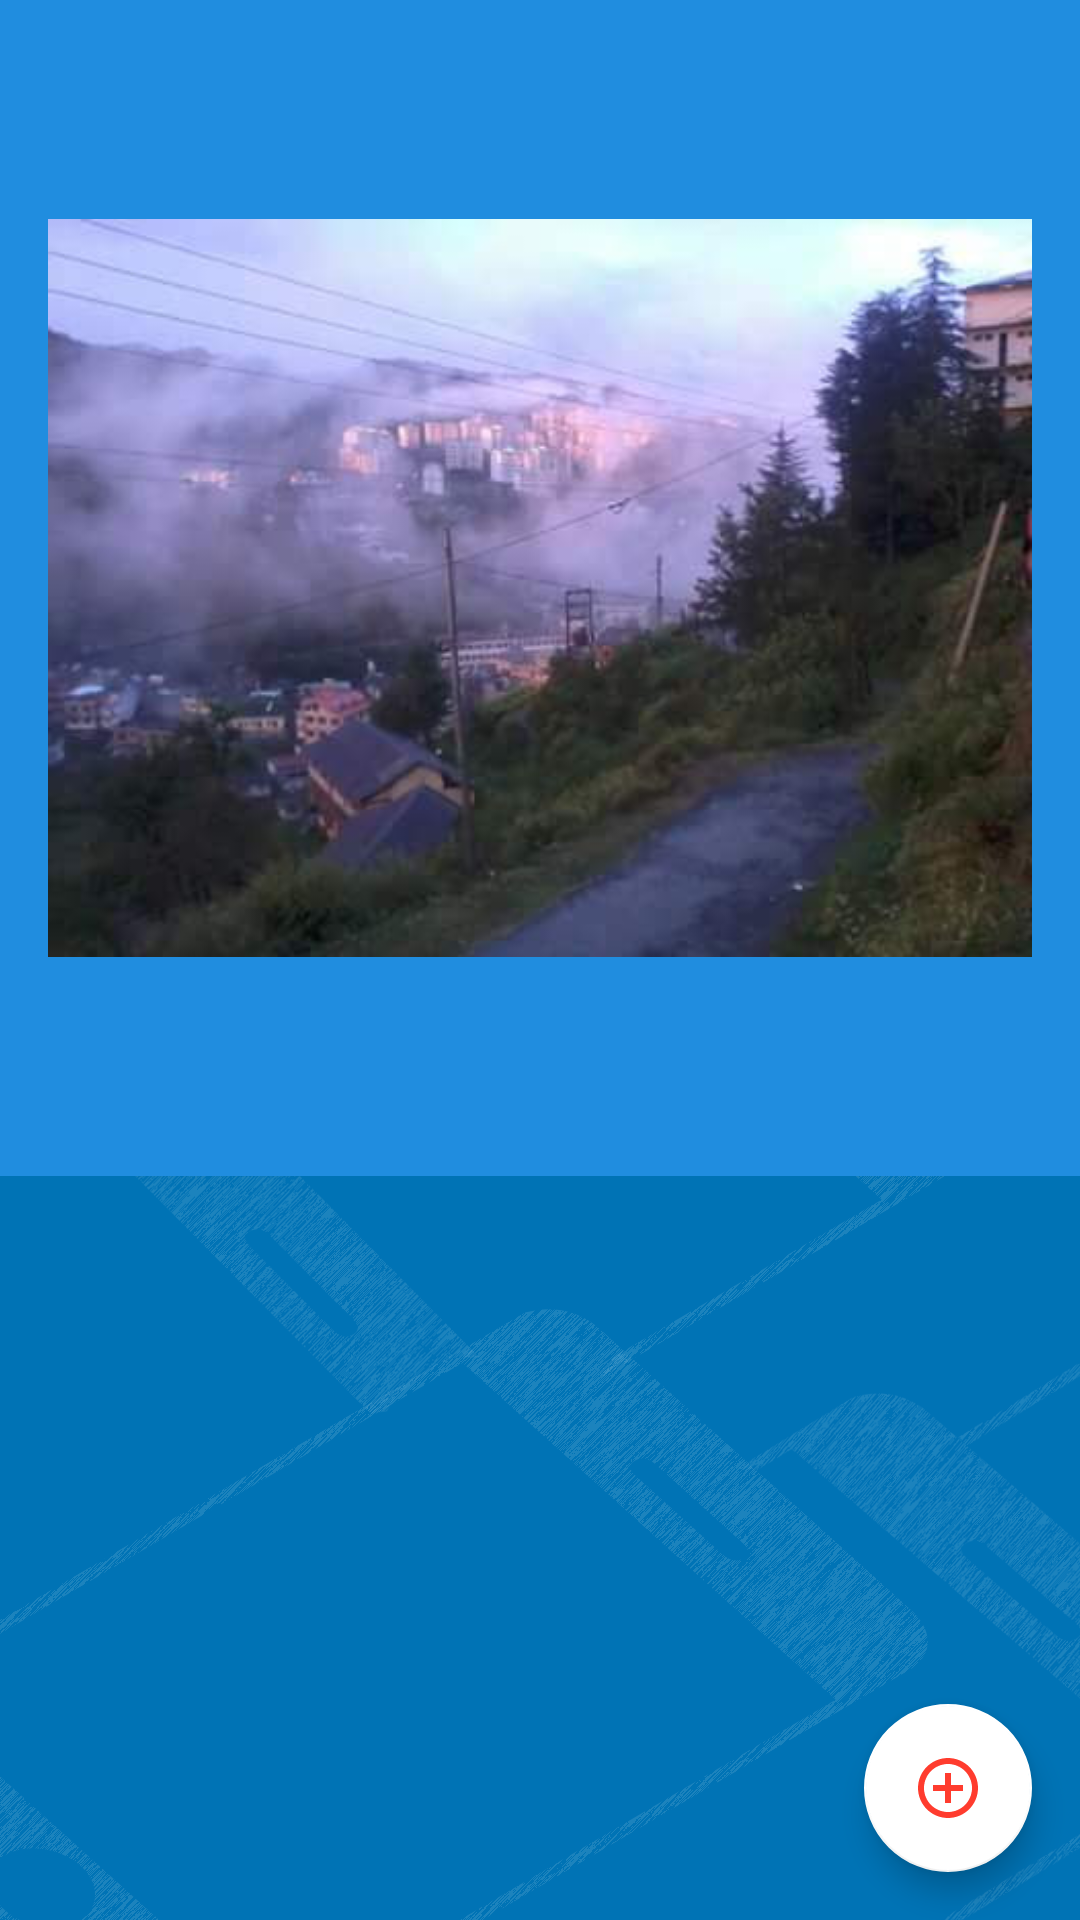

Where icons sit on this 1080x1920 app screen, as bbox=[x1, y1, x2, y2]:
fab add: bbox=[864, 1704, 1032, 1872]
